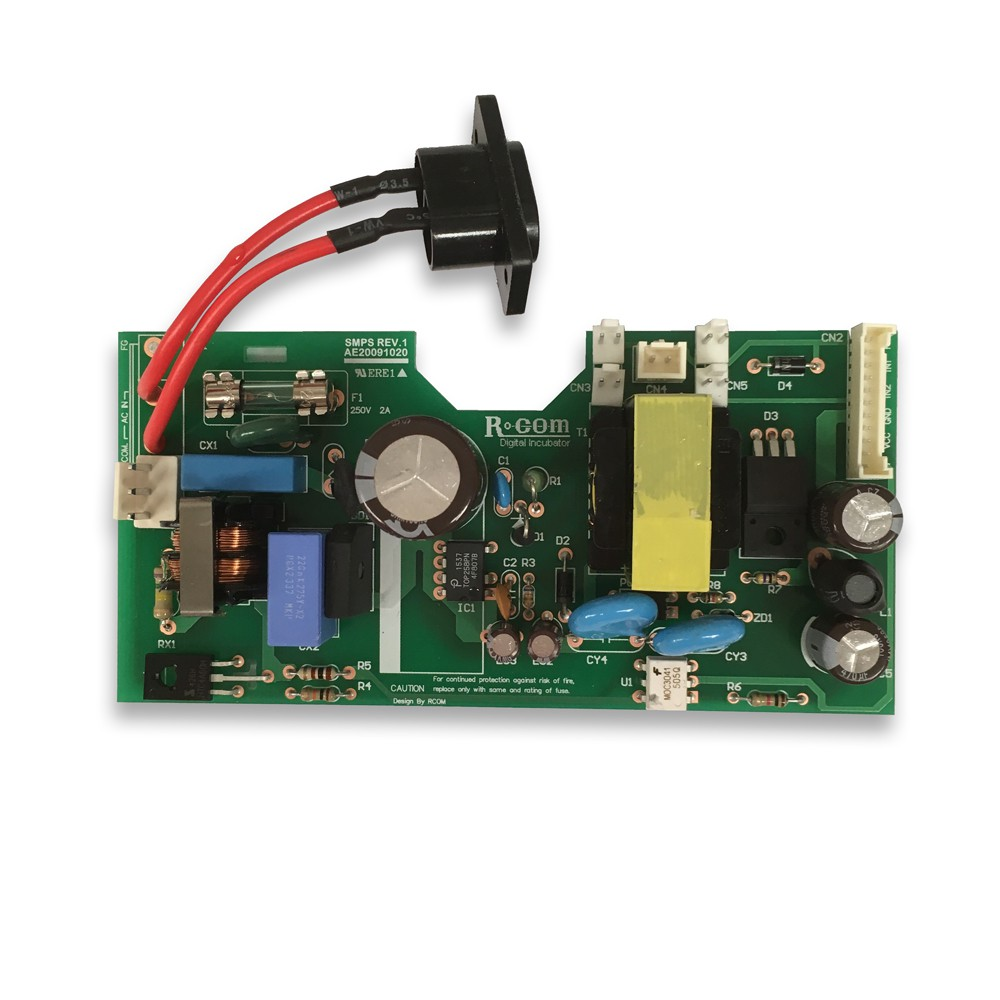capacitor: (342, 402, 496, 559), (803, 603, 914, 706), (813, 472, 912, 559)
